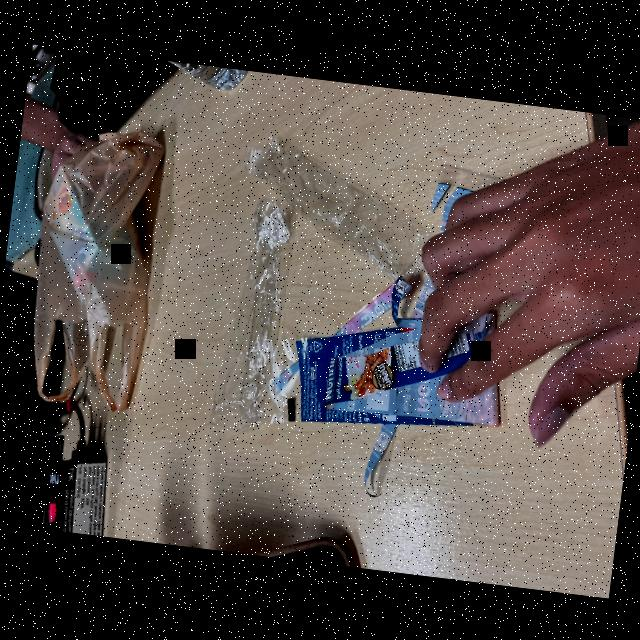scrap_plastic: (266, 279, 508, 476), (197, 186, 310, 452), (242, 127, 437, 280)
